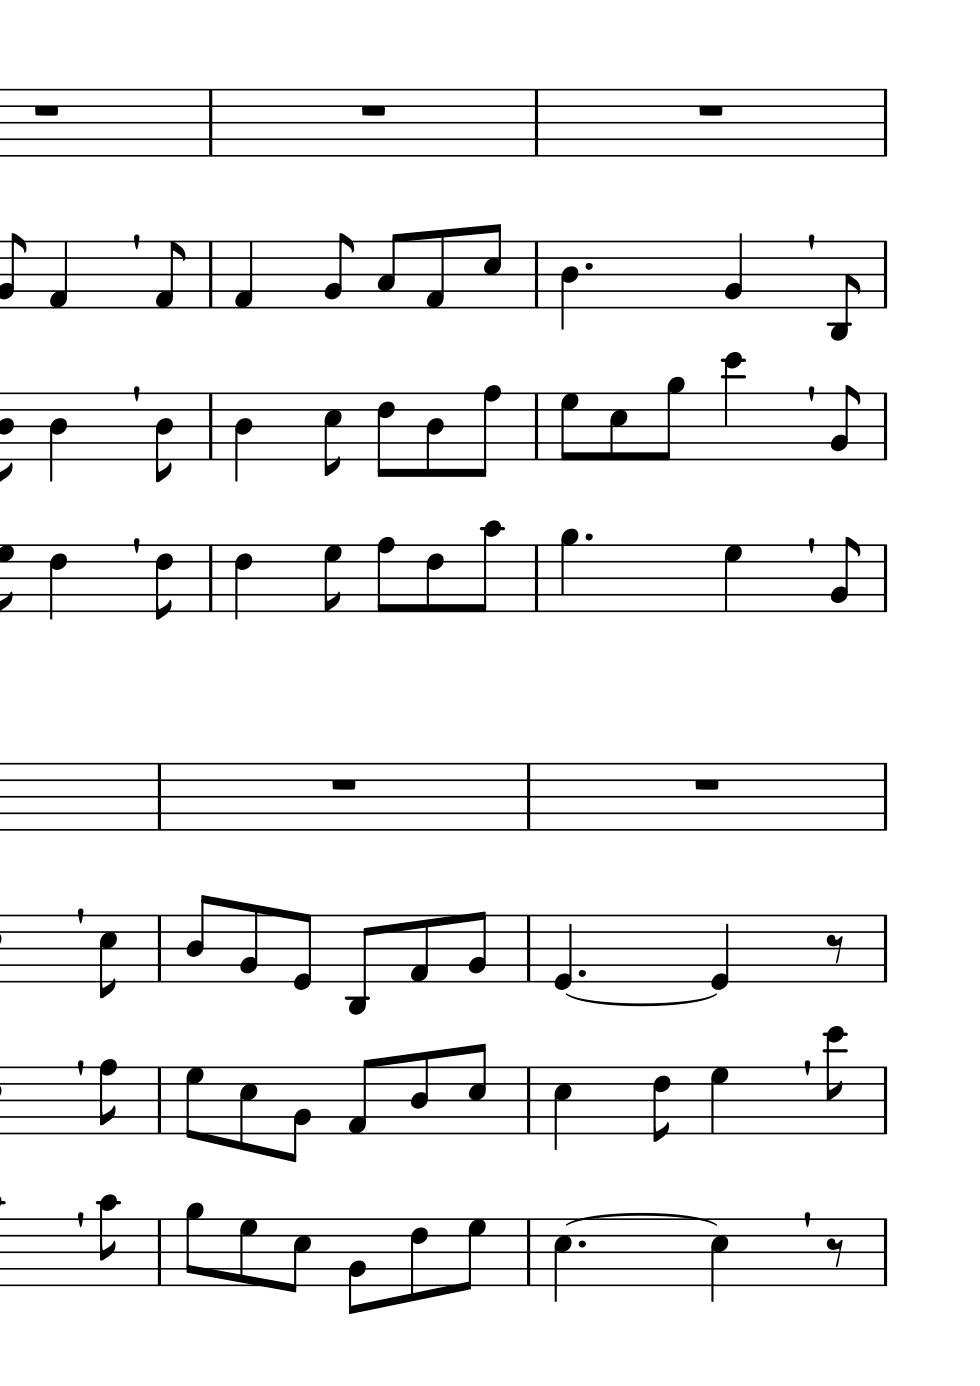4_0: (550, 912, 574, 992), (708, 912, 731, 992)
4_1: (46, 239, 70, 311), (231, 239, 255, 310)
4_12: (719, 351, 746, 464)
4_2: (723, 231, 745, 310)
4_4: (557, 239, 579, 333), (231, 391, 253, 484), (47, 390, 68, 484)
4_5: (552, 1065, 574, 1152), (552, 1217, 573, 1305), (708, 1217, 729, 1305)
4_6: (47, 543, 69, 622), (231, 543, 253, 622)
4_7: (720, 542, 745, 613), (708, 1065, 732, 1136)
4_9: (558, 527, 580, 614)
8_-3: (828, 239, 859, 343), (344, 912, 373, 1015)
8_0: (290, 910, 314, 992)
8_1: (152, 239, 185, 311), (345, 1057, 374, 1136), (422, 227, 447, 311), (407, 913, 431, 985)
8_10: (468, 519, 501, 615), (95, 1194, 120, 1289)
8_12: (822, 1025, 848, 1137)
8_2: (281, 1065, 312, 1165), (321, 231, 354, 310), (829, 534, 860, 614), (345, 1216, 369, 1315), (830, 383, 859, 463), (237, 902, 259, 985), (466, 909, 488, 985)
8_3: (375, 231, 402, 310)
8_4: (183, 893, 213, 985), (423, 391, 447, 479), (153, 390, 174, 485), (408, 1051, 431, 1136)
8_5: (465, 1042, 488, 1137), (285, 1217, 312, 1294), (320, 390, 343, 477), (237, 1065, 258, 1153), (482, 222, 503, 309), (97, 913, 117, 1000), (607, 391, 629, 463)
8_6: (375, 391, 397, 480), (152, 543, 175, 624), (407, 1217, 428, 1304), (650, 1065, 672, 1145), (424, 543, 444, 615)
8_7: (457, 1217, 486, 1293), (183, 1065, 205, 1143), (558, 391, 581, 462), (321, 543, 343, 615), (237, 1217, 258, 1288)
8_8: (470, 383, 502, 479), (374, 536, 396, 615), (97, 1057, 118, 1137)
8_9: (655, 376, 685, 463), (183, 1201, 205, 1289)
Rests1: (29, 101, 63, 119), (694, 101, 727, 119), (327, 775, 360, 793), (690, 775, 723, 793), (357, 101, 389, 118)
Rests8: (823, 1235, 847, 1270), (824, 932, 846, 966)
Single_barline: (527, 393, 546, 459), (527, 241, 545, 308), (202, 241, 218, 308), (520, 1067, 537, 1134), (202, 90, 218, 156), (876, 1067, 893, 1133), (876, 1220, 893, 1285), (202, 393, 218, 458), (202, 545, 218, 610), (520, 916, 537, 981), (528, 546, 545, 610), (877, 89, 893, 156), (151, 764, 167, 830), (520, 764, 536, 830), (877, 764, 893, 830), (528, 90, 544, 156), (877, 915, 893, 981), (151, 1067, 167, 1133), (151, 1220, 167, 1285), (521, 1220, 537, 1285), (151, 916, 167, 981), (877, 241, 892, 308), (877, 393, 892, 459), (877, 545, 892, 611)
Slur: (566, 992, 720, 1007), (567, 1211, 721, 1226)
dot: (581, 259, 596, 274), (581, 530, 595, 544), (575, 1236, 587, 1252), (575, 966, 587, 980)
